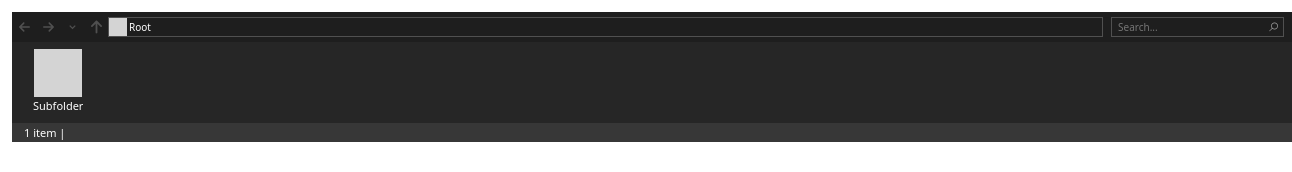
Test: Folder component › can go back in history to a previous folder
The width and height of the screenshot is (1292, 172).
Double-click the list item with test id "foldericon" at [58, 83], box 24,48 -> 92,117
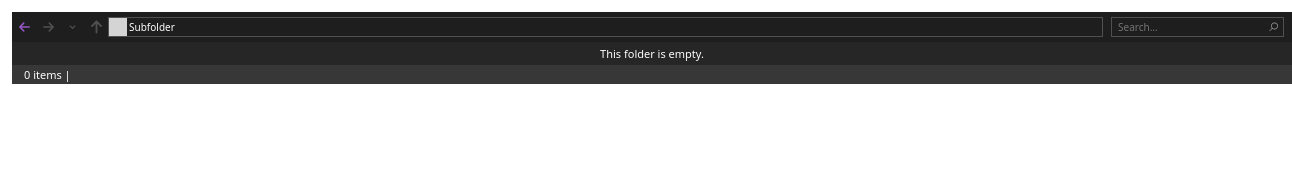
Click the button named "Go back". click: [24, 27]
box: 12,12 -> 36,42
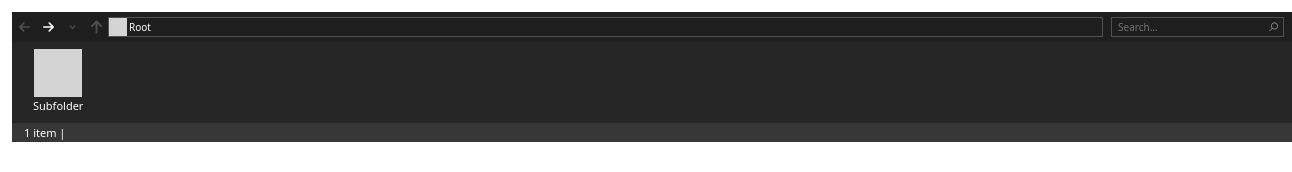
Result: the text "1 item |" is shown at 24,125 -> 65,140
